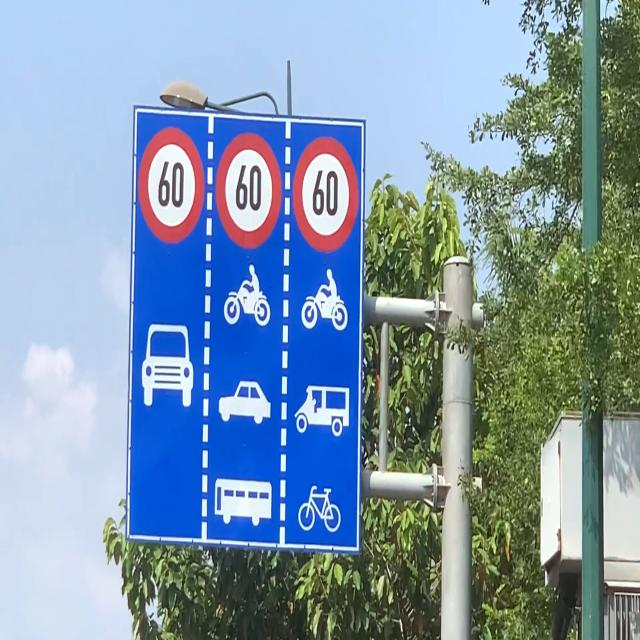P.127: (138, 126, 206, 244), (215, 130, 282, 249), (292, 136, 359, 252)
